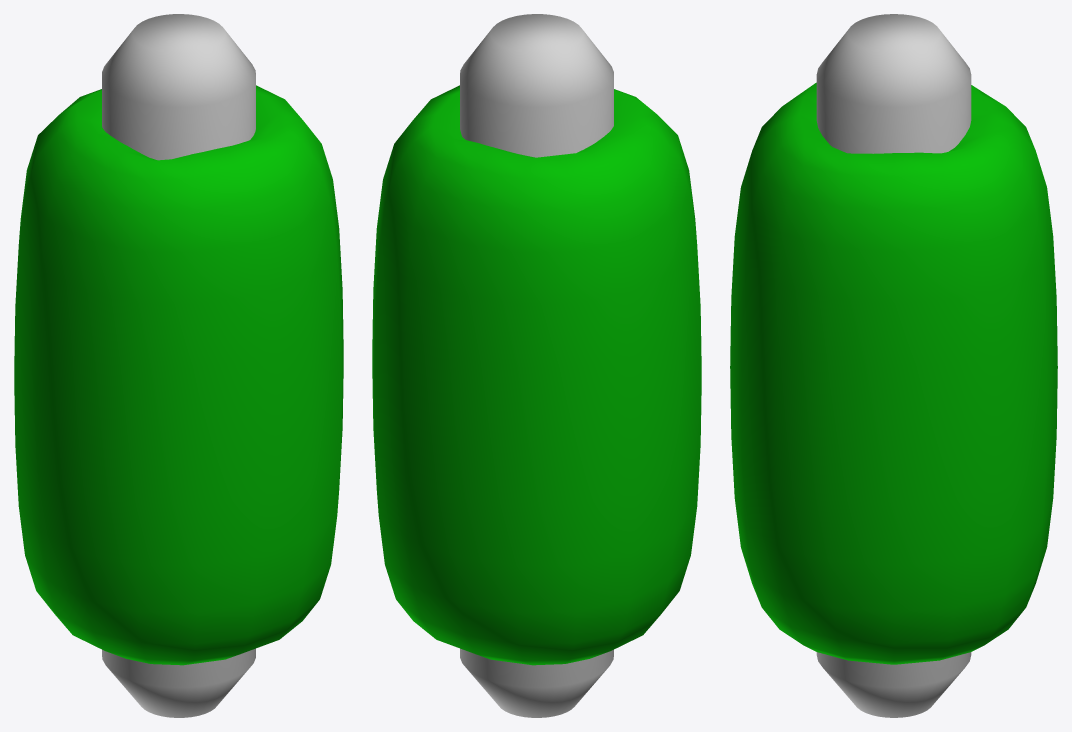
File: punch-target-green-v2.glb
The picture shows the model from 3 angles, left to right: view 1: azimuth 30°, elevation 25°; view 2: azimuth 150°, elevation 25°; view 3: azimuth 270°, elevation 25°; orthographic projection.
Parts seen in each view (by area): view 1: Cube, Cylinder; view 2: Cube, Cylinder; view 3: Cube, Cylinder.
Part boxes in pixels (x1=…): Cube: x1=14, y1=85, x2=343, y2=665; Cylinder: x1=102, y1=14, x2=255, y2=717; Cube: x1=372, y1=85, x2=701, y2=665; Cylinder: x1=460, y1=14, x2=613, y2=717; Cube: x1=730, y1=82, x2=1057, y2=664; Cylinder: x1=816, y1=14, x2=971, y2=717.
Size of the model in its own units: 0.3179 by 0.7144 by 0.3179.
